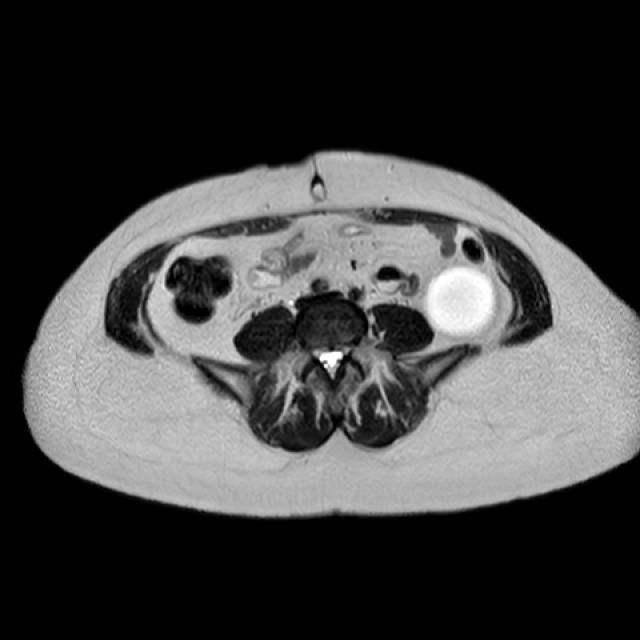sol: (419, 265, 499, 343)
